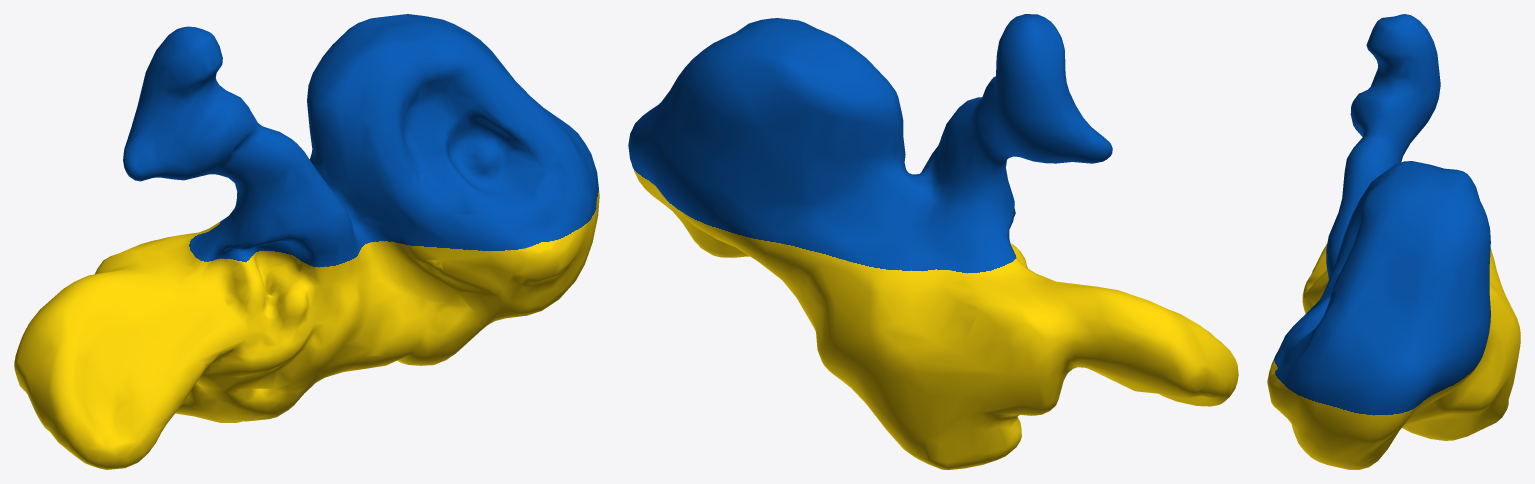
Rendered from shlumper-ukranie.fbx.
3 renders of one model, left to right at view 1: azimuth 30°, elevation 25°; view 2: azimuth 150°, elevation 25°; view 3: azimuth 270°, elevation 25°, orthographic. The views are drawn at different scales.
Visible parts, largest first — view 1: model:Mesh; view 2: model:Mesh; view 3: model:Mesh.
Part boxes in pixels (x1=…): model:Mesh: x1=14, y1=14, x2=599, y2=469; model:Mesh: x1=628, y1=14, x2=1238, y2=469; model:Mesh: x1=1267, y1=14, x2=1520, y2=469.
Bounding box in the file's own units: 0.9524 × 0.6788 × 0.3971.
